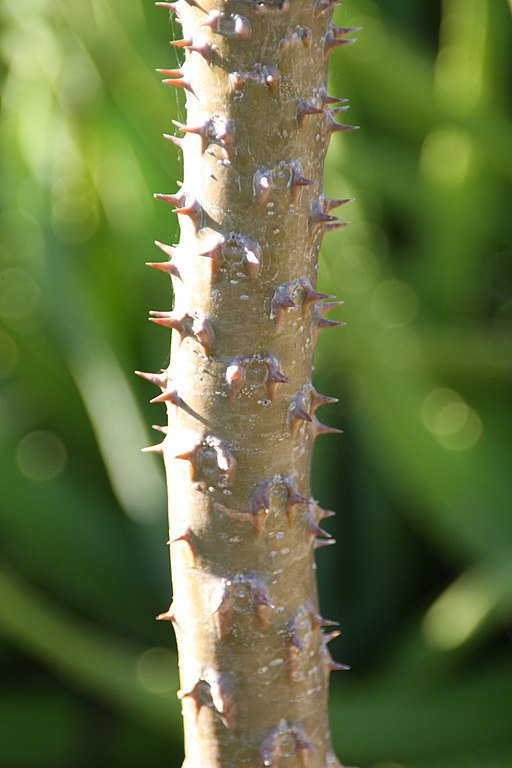Pachypodium meridionale: (149, 11, 364, 755)
